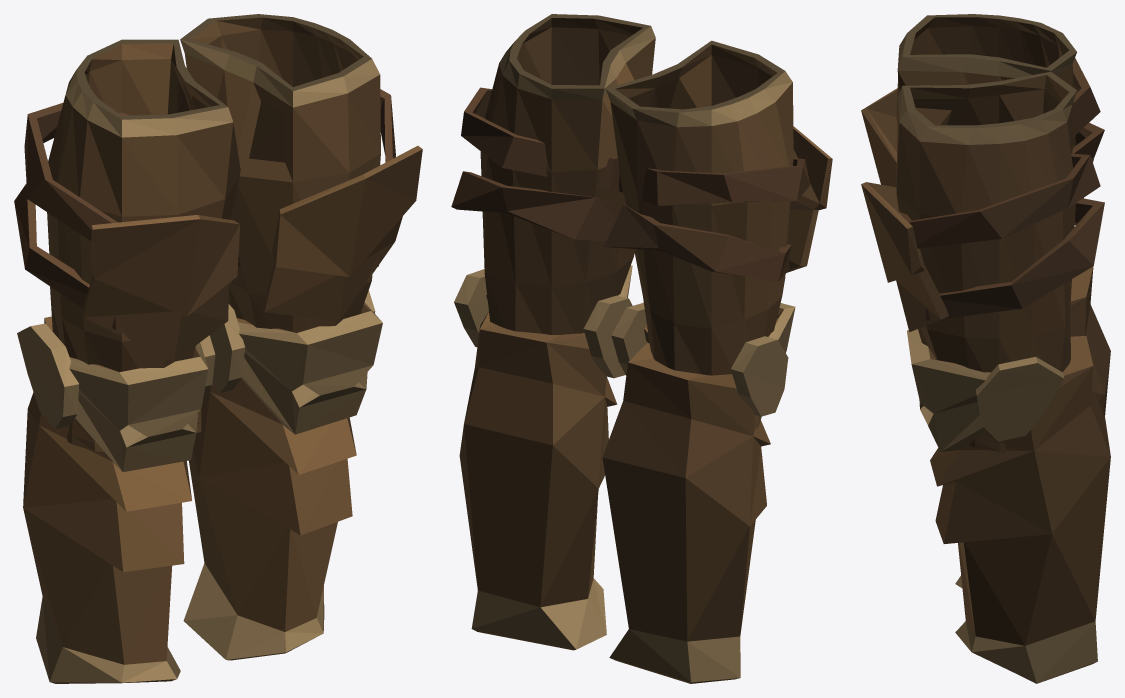
The model's file is bronze_legs.glb.
The picture shows the model from 3 angles, left to right: view 1: azimuth 30°, elevation 25°; view 2: azimuth 150°, elevation 25°; view 3: azimuth 270°, elevation 25°; orthographic projection. The views are drawn at different scales.
Visible parts, largest first — view 1: bronze_legs; view 2: bronze_legs; view 3: bronze_legs.
Part boxes in pixels (x1,y1,x2,y2): bronze_legs: (14, 14, 422, 683); bronze_legs: (451, 14, 832, 683); bronze_legs: (861, 14, 1110, 683).
Bounding box in the file's own units: 0.6117 × 1 × 0.4058.
